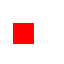square: (13, 23, 33, 43)
